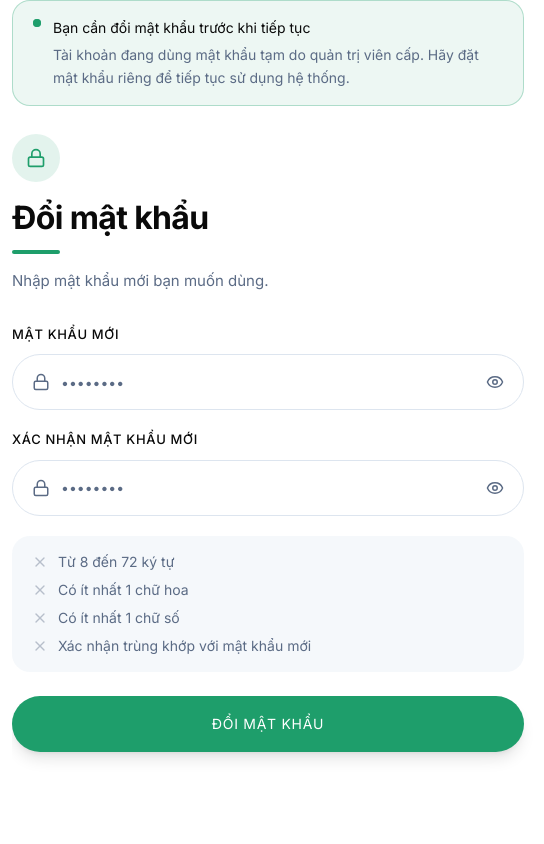
it: ChangePasswordForm › xác nhận không khớp với mật khẩu mới — chặn submit
This screenshot has width=544, height=844.
Type "Valid123" into the password field labelled "Mật khẩu mới" at (268, 382), box left=12, top=354, right=524, bottom=410
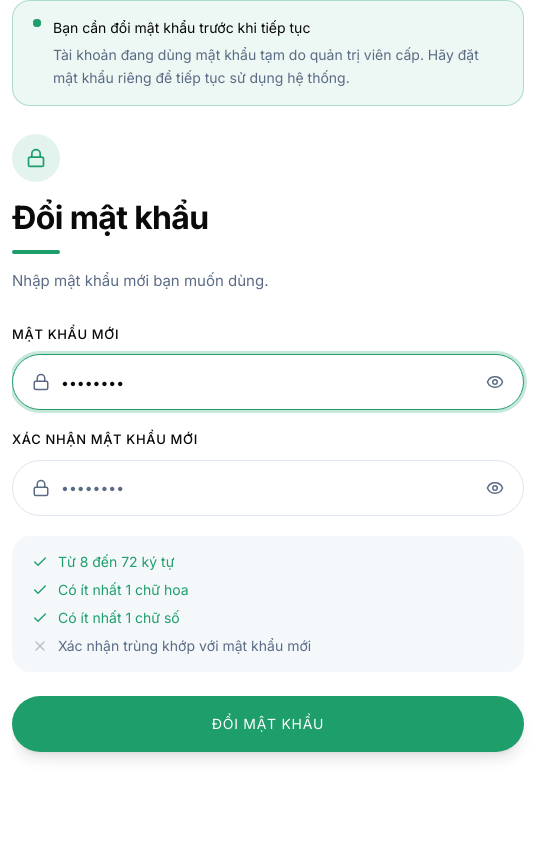
Type "Valid999" into the password field labelled "Xác nhận mật khẩu mới" at (268, 488), box left=12, top=460, right=524, bottom=516
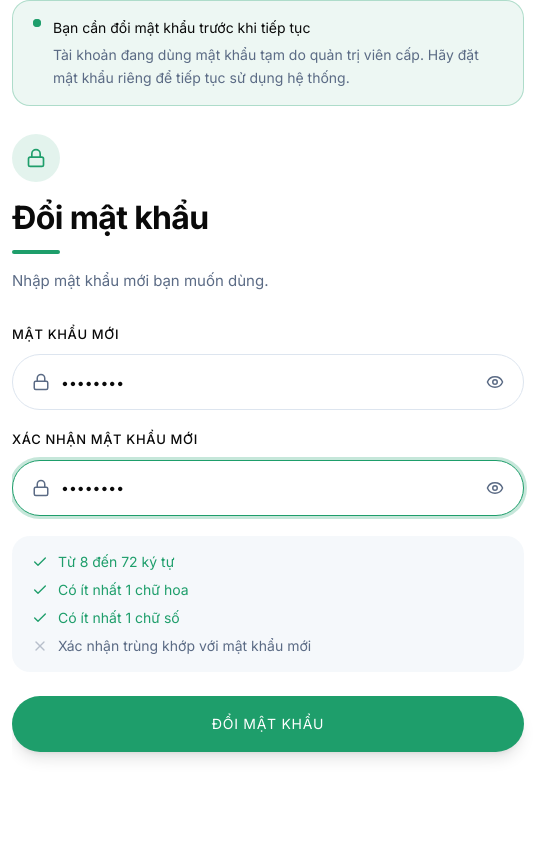
Click the button "Đổi mật khẩu" at (268, 724), box left=12, top=696, right=524, bottom=752
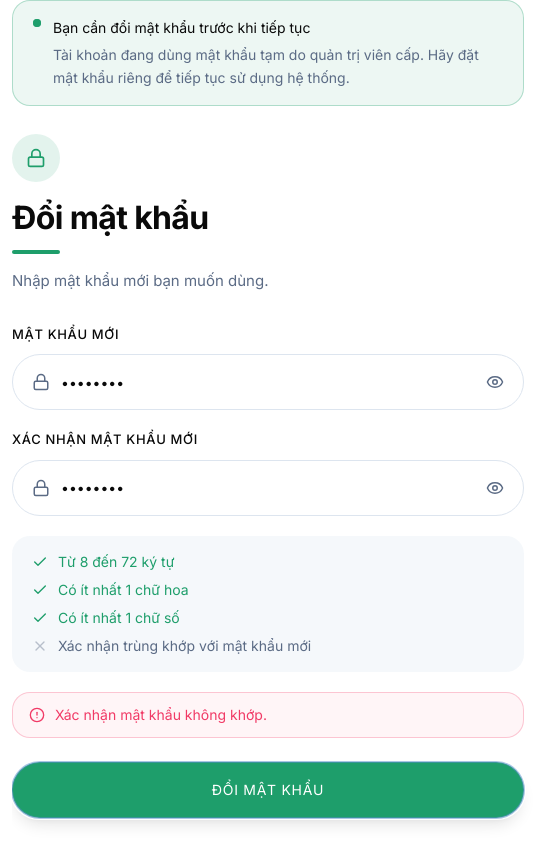
Check: the text "Xác nhận mật khẩu không khớp." is shown, box left=55, top=705, right=267, bottom=725
